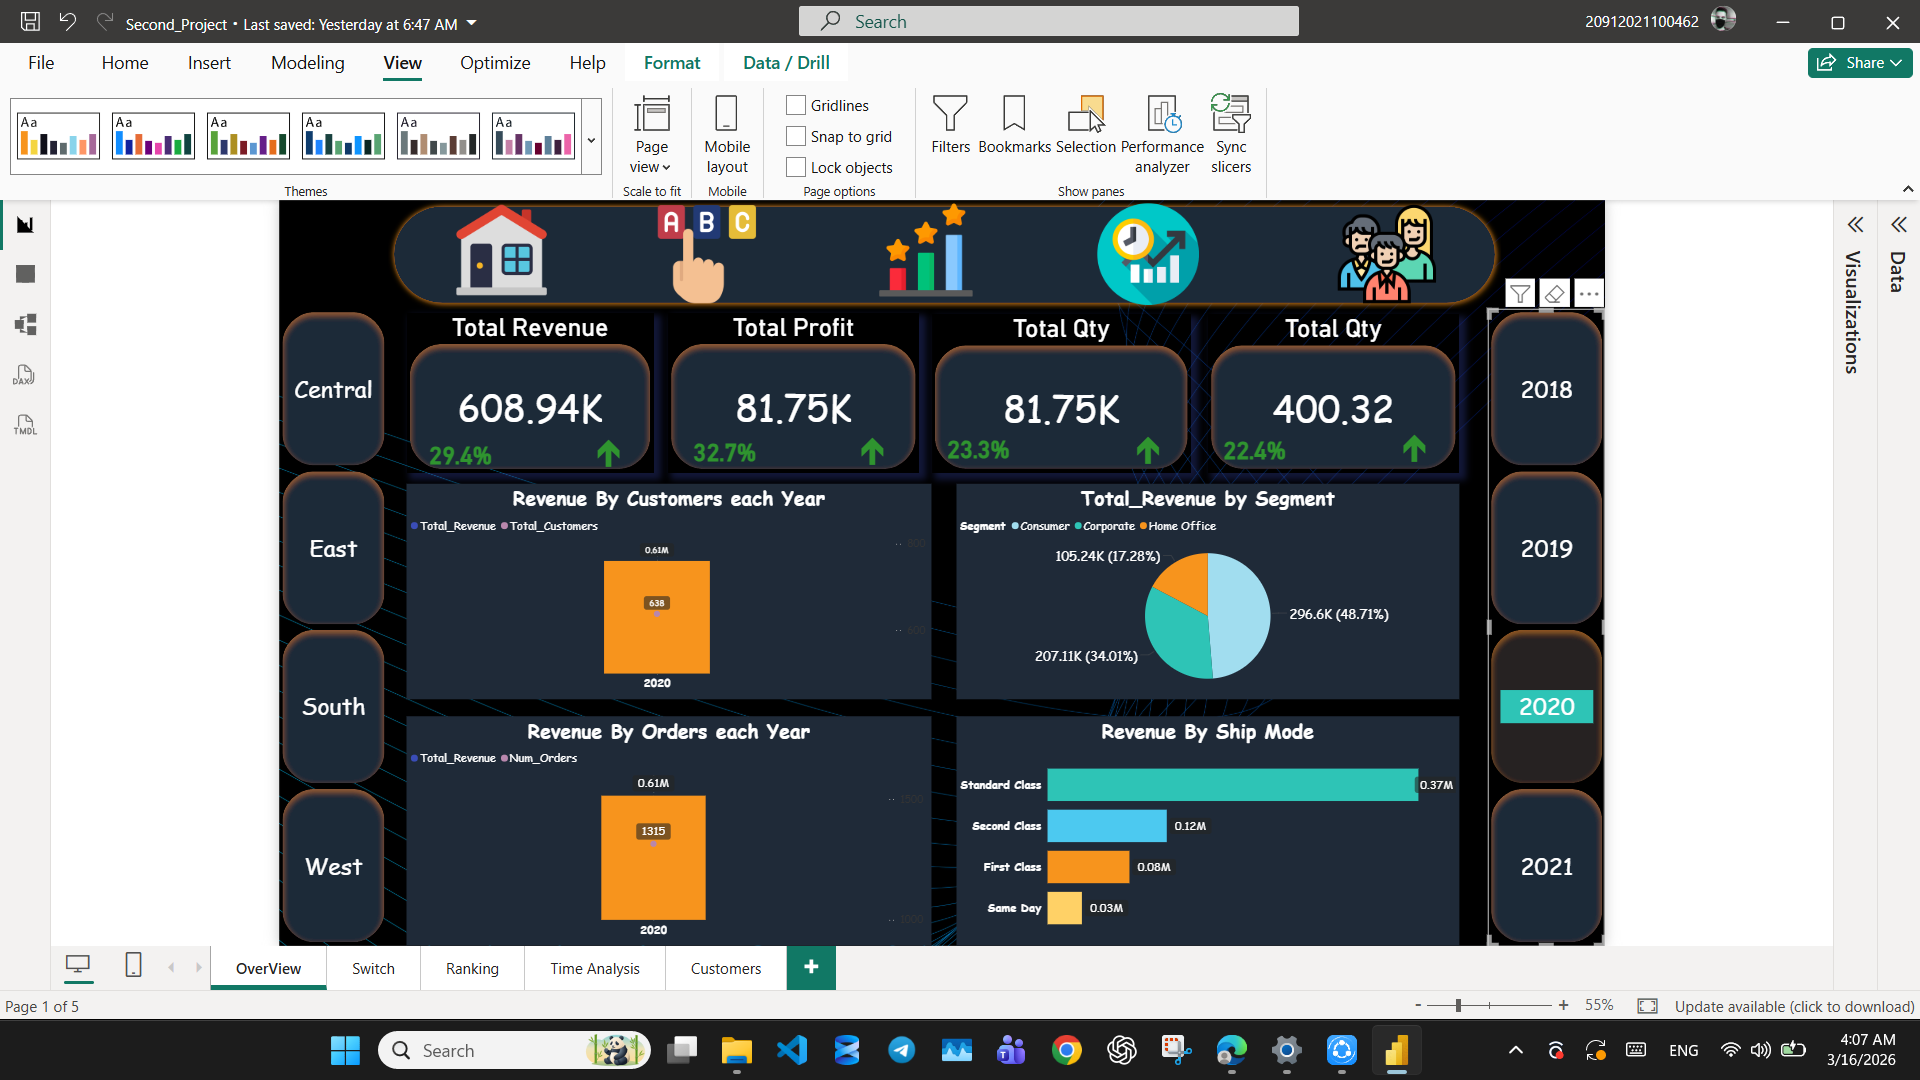

What the dashboard file says about the page in this screenshot:
{"tool":"powerbi","page":{"name":"OverView","canvas":[1920,1080],"ordinal":0},"visuals":[{"type":"advancedSlicerVisual","fields":{"Values":["Calendar_Table.Year"]},"box":[0,585.7,158.6,494.3],"z":2000},{"type":"advancedSlicerVisual","fields":{"Values":["Dim_Customer.Region"]},"box":[0,160,158.3,406.7],"z":3000},{"type":"shape","box":[158,0,1762,158],"z":5000},{"type":"card","title":"Total Profit","fields":{"Values":["Dax.Total_Profit"]},"box":[622,184,432,198],"z":6000},{"type":"card","fields":{"Values":["Dax.Show % Profit"]},"box":[621.8,295.5,121.8,106.4],"z":7000},{"type":"card","fields":{"Values":["Dax.Show Arrow Profit"]},"box":[924.5,291.8,170,110],"z":8000},{"type":"card","title":"Total Qty","fields":{"Values":["Dax.Total_Quantity"]},"box":[1072,184,428,198],"z":9000},{"type":"card","fields":{"Values":["Dax.Show % Quantity"]},"box":[1080,295.5,136.4,103.6],"z":10000},{"type":"card","fields":{"Values":["Dax.Show Arrow Quantity"]},"box":[1373.6,291.8,172.7,106.4],"z":11000},{"type":"card","title":"Total Discount","fields":{"Values":["Dax.Total_Discount"]},"box":[1524,184,396,198],"z":12000},{"type":"card","fields":{"Values":["Dax.Show % Discount"]},"box":[1523.6,291.8,136.4,103.6],"z":13000},{"type":"card","fields":{"Values":["Dax.Show Arrow Discount"]},"box":[1840.9,295.5,79.1,94.5],"z":14000},{"type":"lineClusteredColumnComboChart","title":"Revenue By Customers each Year","fields":{"Category":["Calendar_Table.Year"],"Y":["Dax.Total_Revenue"],"Y2":["Dax.Total_Customers"]},"box":[184,404,874,318],"z":15000},{"type":"barChart","title":"Revenue By Ship Mode","fields":{"Category":["Dim_Order.Ship Mode"],"Y":["Dax.Total_Revenue"]},"box":[1080.4,747.4,839.7,333],"z":16000},{"type":"pieChart","fields":{"Y":["Dax.Total_Revenue"],"Category":["Dim_Order.Segment"]},"box":[1080.4,410.8,839.7,311.3],"z":17000},{"type":"lineClusteredColumnComboChart","title":"Revenue By Orders each Year","fields":{"Category":["Calendar_Table.Year"],"Y2":["Dax.Num_Orders"],"Y":["Dax.Total_Revenue"]},"box":[184.6,747.4,874.1,333],"z":18000},{"type":"image","box":[230.7,0,184.2,144.8],"z":19000},{"type":"image","box":[570,0,158,158],"z":20000},{"type":"image","box":[1638,0,156,158],"z":21000},{"type":"image","box":[900,0,158,144],"z":22000},{"type":"image","box":[1250,0,158,158],"z":23000},{"type":"card","title":"Total Revenue","fields":{"Values":["Dax.Total_Revenue"]},"box":[184,184,418,198],"z":24000},{"type":"card","fields":{"Values":["Dax.Show Arrow Revenue"]},"box":[479.1,295.5,170,106.4],"z":25000},{"type":"card","fields":{"Values":["Dax.Show % Revenue"]},"box":[183.6,298.2,124.5,103.6],"z":25500}]}

Visuals, with their boxes on the page's 1920x1080 design canvas (x1, y1, x2, y2). These are canvas units, not pixel positions in the 1920x1080 screenshot, which may show the page scaled, cropped or inside an application window:
advancedSlicerVisual - Calendar_Table.Year: bbox(0, 586, 159, 1080)
advancedSlicerVisual - Dim_Customer.Region: bbox(0, 160, 158, 567)
shape: bbox(158, 0, 1920, 158)
"Total Profit" card: bbox(622, 184, 1054, 382)
card - Dax.Show % Profit: bbox(622, 296, 744, 402)
card - Dax.Show Arrow Profit: bbox(924, 292, 1094, 402)
"Total Qty" card: bbox(1072, 184, 1500, 382)
card - Dax.Show % Quantity: bbox(1080, 296, 1216, 399)
card - Dax.Show Arrow Quantity: bbox(1374, 292, 1546, 398)
"Total Discount" card: bbox(1524, 184, 1920, 382)
card - Dax.Show % Discount: bbox(1524, 292, 1660, 395)
card - Dax.Show Arrow Discount: bbox(1841, 296, 1920, 390)
"Revenue By Customers each Year" lineClusteredColumnComboChart: bbox(184, 404, 1058, 722)
"Revenue By Ship Mode" barChart: bbox(1080, 747, 1920, 1080)
pieChart - Dax.Total_Revenue x Dim_Order.Segment: bbox(1080, 411, 1920, 722)
"Revenue By Orders each Year" lineClusteredColumnComboChart: bbox(185, 747, 1059, 1080)
image: bbox(231, 0, 415, 145)
image: bbox(570, 0, 728, 158)
image: bbox(1638, 0, 1794, 158)
image: bbox(900, 0, 1058, 144)
image: bbox(1250, 0, 1408, 158)
"Total Revenue" card: bbox(184, 184, 602, 382)
card - Dax.Show Arrow Revenue: bbox(479, 296, 649, 402)
card - Dax.Show % Revenue: bbox(184, 298, 308, 402)
